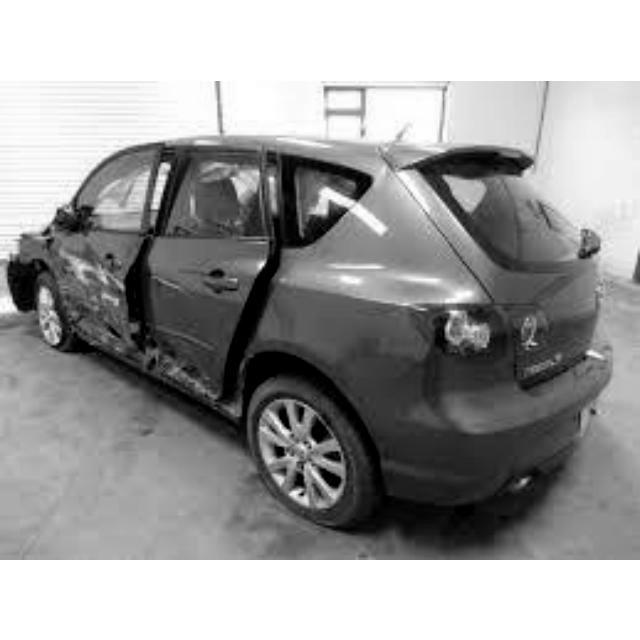Runningboard-Damage: (70, 318, 205, 377)
doorouter-dent: (154, 244, 252, 377), (50, 231, 136, 337)
